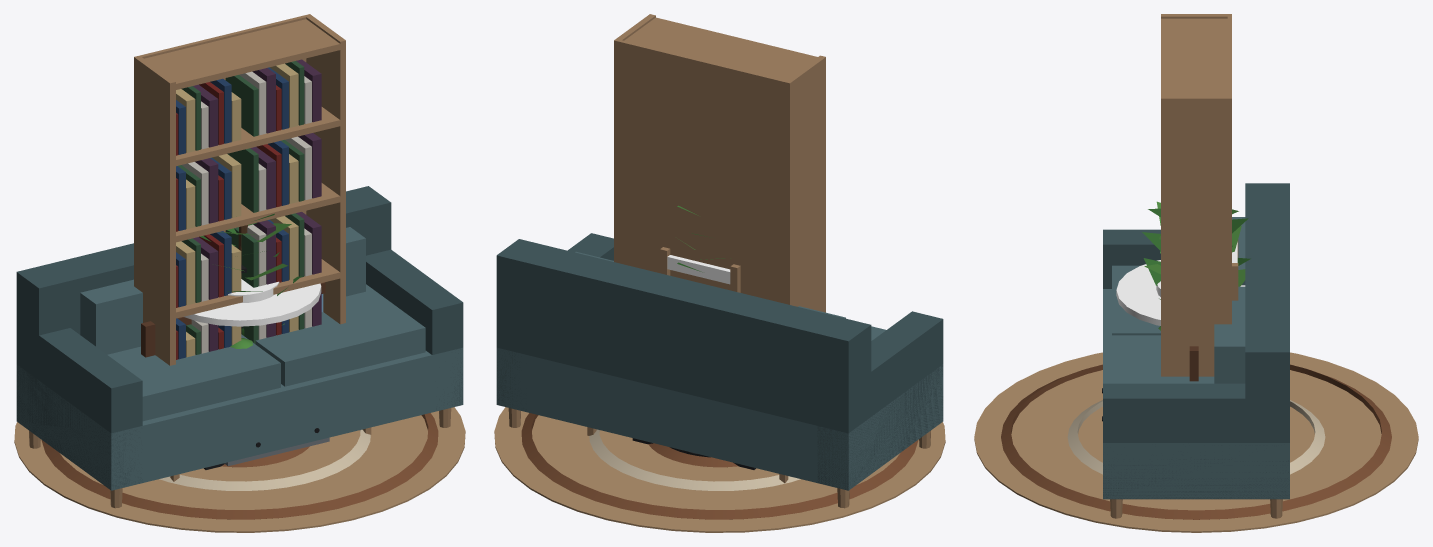
Rendered from props.glb.
3 views of the same model, side by side, from view 1: azimuth 30°, elevation 25°; view 2: azimuth 150°, elevation 25°; view 3: azimuth 270°, elevation 25° (orthographic).
Visible parts, largest first — view 1: couch_medium, bookcase_books, rug_round, round_table, houseplant_1, wall_painting_1, bar_stool, espresso_machine; view 2: couch_medium, bookcase_books, rug_round, chair; view 3: couch_medium, rug_round, bookcase_books, round_table, houseplant_1.
Part boxes in pixels (<box>): couch_medium: <box>16,186,463,508</box>; bookcase_books: <box>134,14,345,365</box>; rug_round: <box>14,407,465,532</box>; round_table: <box>183,283,321,333</box>; houseplant_1: <box>200,213,301,324</box>; wall_painting_1: <box>141,282,325,357</box>; bar_stool: <box>228,279,279,303</box>; espresso_machine: <box>204,428,329,469</box>; couch_medium: <box>496,233,943,508</box>; bookcase_books: <box>614,14,825,312</box>; rug_round: <box>494,407,945,532</box>; chair: <box>660,247,740,292</box>; couch_medium: <box>1103,183,1289,518</box>; rug_round: <box>974,352,1418,532</box>; bookcase_books: <box>1161,14,1231,376</box>; round_table: <box>1116,260,1245,325</box>; houseplant_1: <box>1142,201,1250,299</box>.
Size of the model in its own units: 2 by 1.95 by 2.
